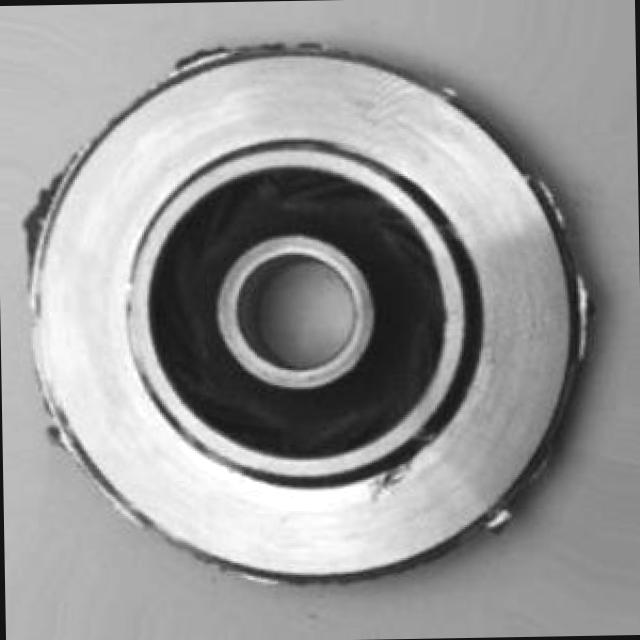Defect: (361, 461, 420, 497)
